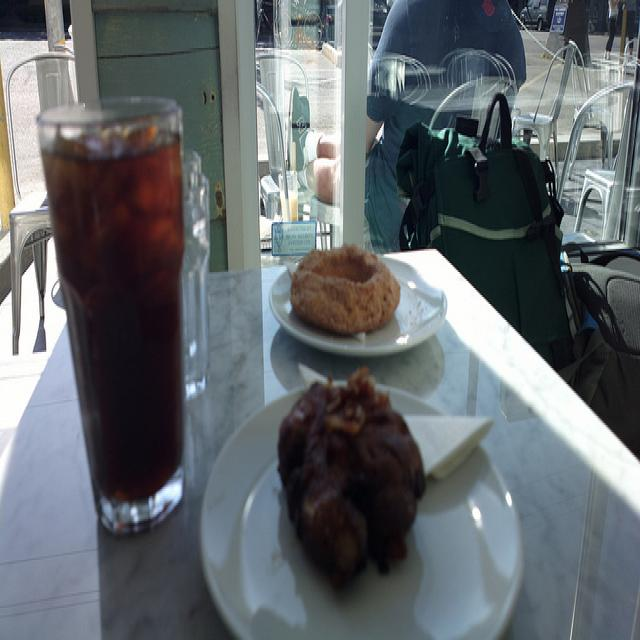Vehicle: (520, 1, 555, 31), (373, 1, 392, 24)
